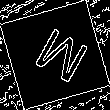M_SW: (23, 22, 87, 88)
